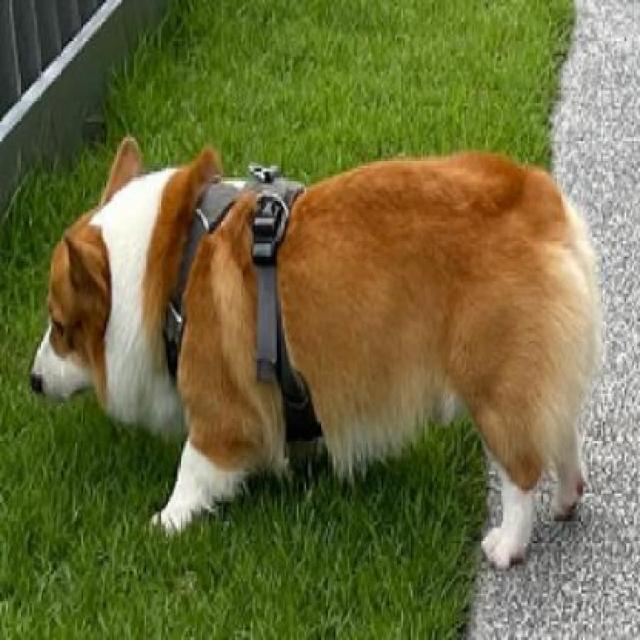Dog: (25, 135, 606, 577)
